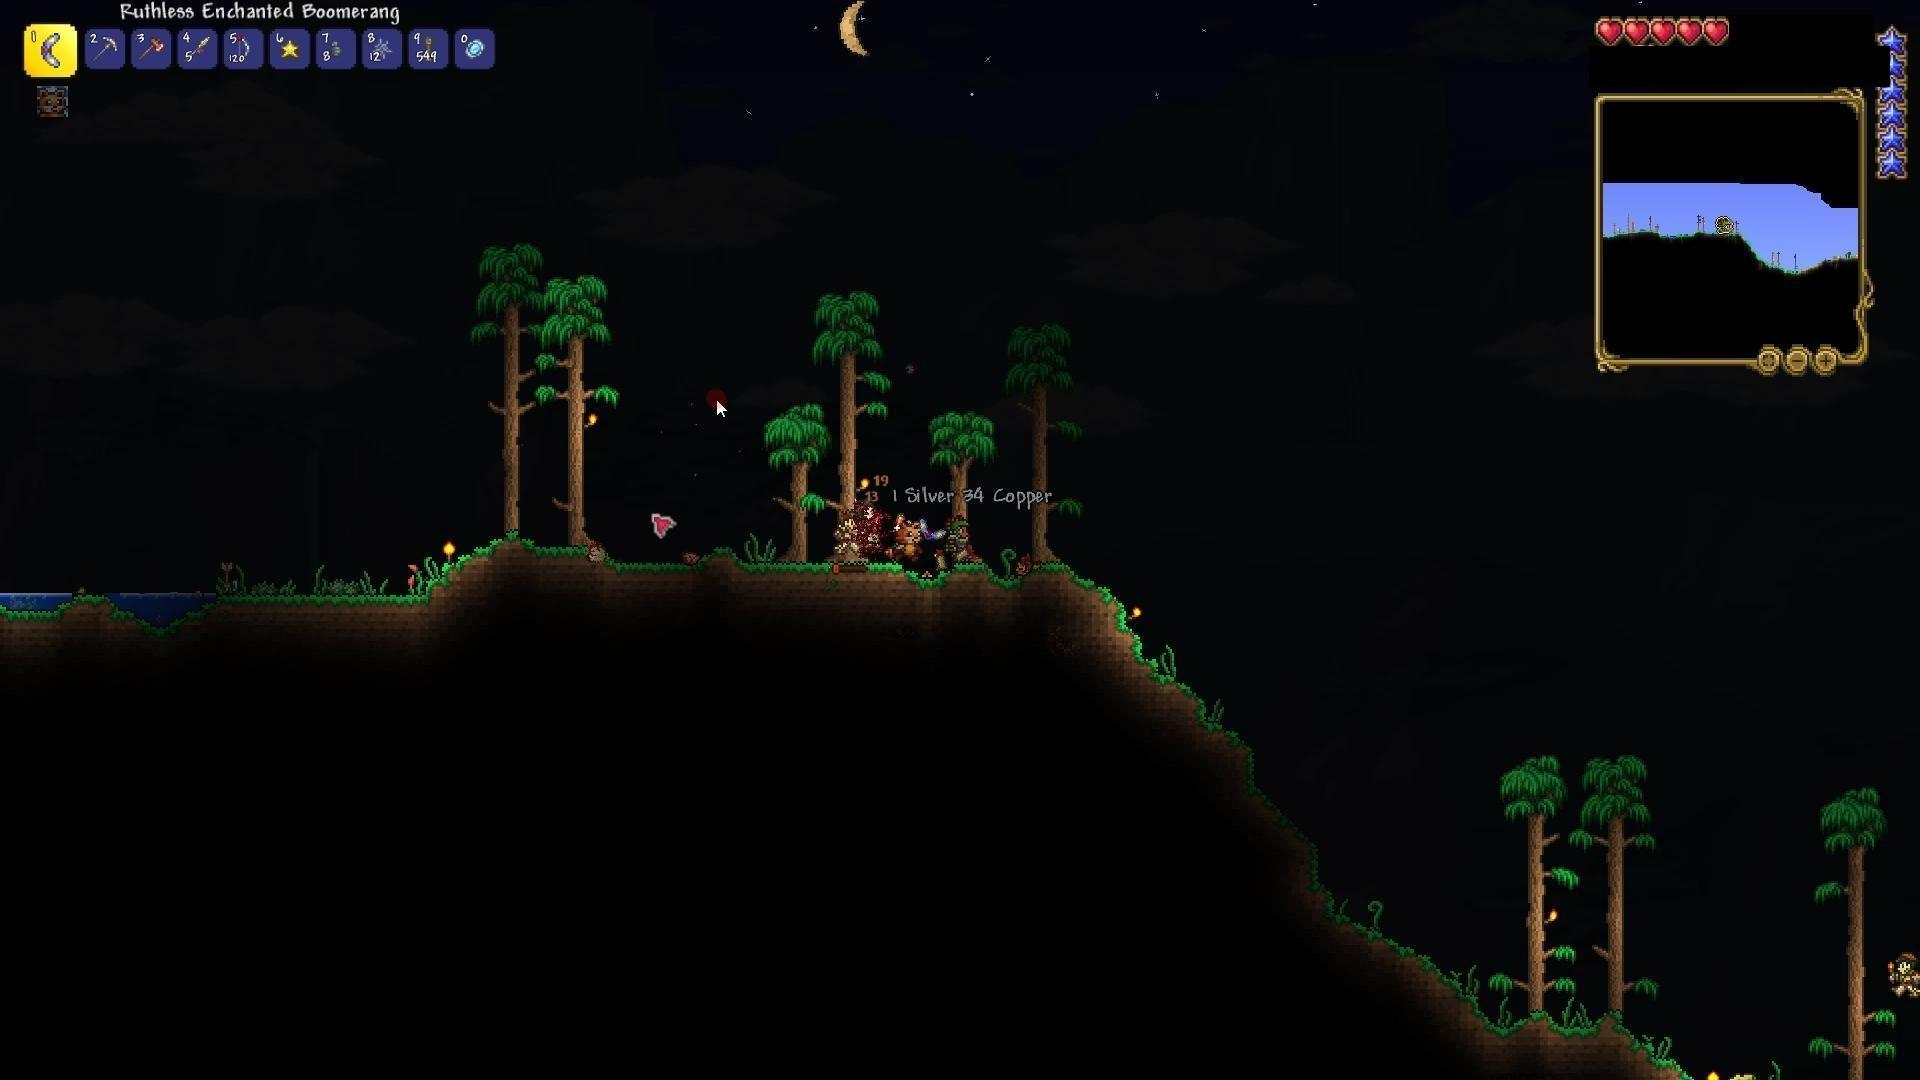dirt: (1308, 866, 1498, 1029), (1515, 1000, 1700, 1080), (1131, 632, 1245, 756), (982, 551, 1125, 626), (467, 535, 636, 597), (708, 550, 906, 603), (233, 574, 465, 617), (625, 553, 728, 600), (0, 597, 123, 636)
heart: (1702, 17, 1733, 51), (1593, 16, 1626, 46), (1676, 15, 1704, 50), (1650, 16, 1676, 49), (1625, 15, 1651, 44)
liquid: (124, 580, 196, 607), (3, 585, 90, 605)
tree: (543, 261, 626, 538), (1586, 750, 1667, 1035), (807, 281, 891, 521), (1815, 764, 1876, 1080), (475, 232, 535, 542), (1498, 737, 1556, 1017), (764, 393, 827, 555), (936, 404, 986, 531)
